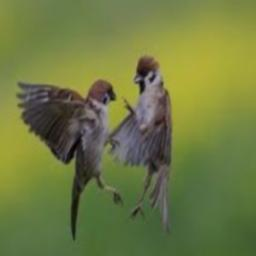Sparrow: (15, 79, 125, 240), (106, 53, 172, 235)
